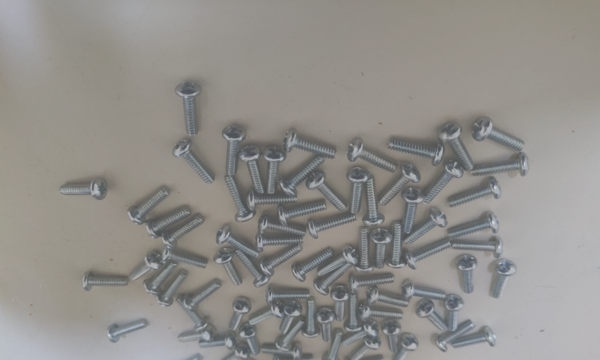shortscrew: (471, 116, 526, 153), (173, 139, 216, 185), (422, 160, 464, 206), (378, 163, 422, 206), (280, 156, 324, 198), (438, 121, 474, 172), (306, 169, 348, 212), (347, 139, 399, 173), (127, 187, 171, 226), (388, 137, 445, 167), (284, 128, 337, 160), (448, 177, 502, 208), (403, 208, 448, 245), (161, 214, 206, 250), (145, 206, 192, 240), (471, 153, 531, 178), (404, 240, 452, 271), (225, 176, 257, 222), (292, 248, 335, 282), (176, 82, 203, 136), (216, 225, 260, 258), (259, 244, 303, 277), (234, 249, 271, 287), (448, 212, 500, 239), (307, 213, 357, 240), (278, 200, 327, 227), (434, 321, 475, 353), (238, 145, 265, 193), (183, 279, 222, 312), (222, 125, 247, 176), (362, 174, 386, 227), (143, 261, 179, 296), (177, 296, 211, 333), (314, 264, 353, 296), (318, 246, 359, 276), (346, 166, 371, 214), (258, 213, 308, 237), (156, 271, 188, 308), (263, 145, 287, 194), (451, 236, 503, 258), (214, 248, 243, 287), (59, 178, 108, 201), (247, 189, 298, 211), (401, 279, 447, 303), (401, 187, 424, 234), (452, 326, 497, 350), (82, 271, 130, 293), (385, 221, 407, 269), (416, 299, 448, 332), (492, 260, 518, 300), (366, 285, 411, 308), (349, 272, 394, 295), (276, 318, 306, 352), (129, 252, 163, 282), (161, 248, 209, 269), (249, 300, 286, 327), (256, 233, 305, 253), (343, 320, 379, 347), (107, 320, 149, 343), (370, 228, 393, 270), (355, 227, 376, 273), (265, 286, 311, 306), (359, 303, 404, 323), (456, 254, 478, 294), (279, 300, 303, 335), (350, 333, 381, 360), (344, 292, 364, 333), (261, 341, 304, 360), (229, 296, 252, 331), (199, 331, 238, 351), (445, 294, 465, 332), (331, 285, 350, 322), (393, 333, 419, 360), (239, 323, 260, 356), (322, 329, 344, 360), (382, 319, 402, 353), (178, 327, 217, 344), (220, 342, 251, 360), (273, 354, 315, 360), (345, 354, 385, 360), (167, 355, 203, 360), (228, 358, 259, 360)
